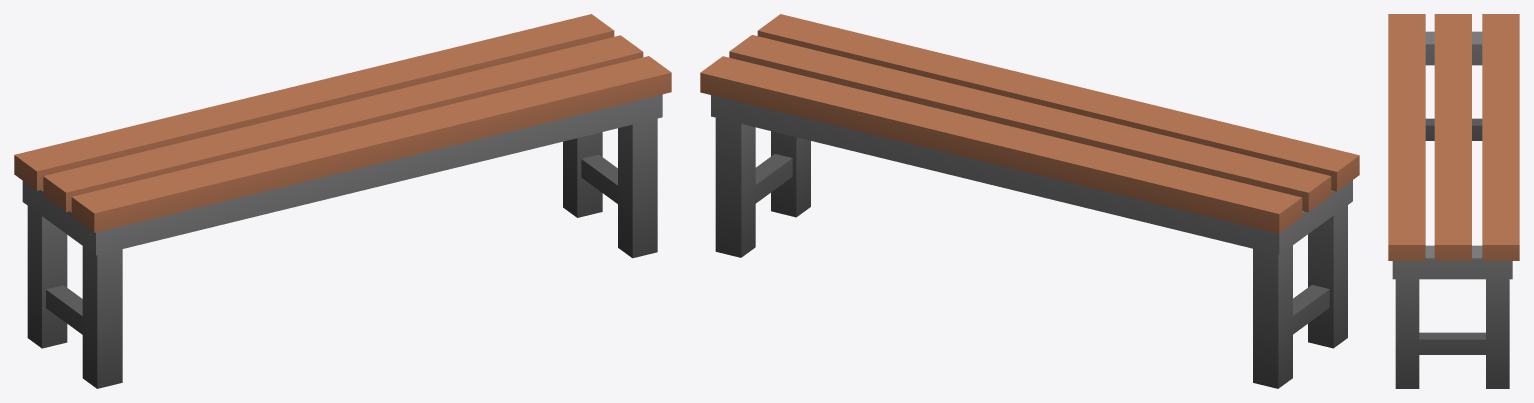
Rendered from bench.fbx.
3 renders of one model, left to right at view 1: azimuth 30°, elevation 25°; view 2: azimuth 150°, elevation 25°; view 3: azimuth 270°, elevation 25°, orthographic. The views are drawn at different scales.
Parts seen in each view (by area): view 1: bench; view 2: bench; view 3: bench.
Part boxes in pixels (left/top/right/bottom): bench: left=14, top=14, right=671, bottom=388; bench: left=700, top=14, right=1359, bottom=388; bench: left=1388, top=14, right=1519, bottom=388.
Bounding box in the file's own units: 187 × 55.94 × 45.
1 material, 1 textured.
